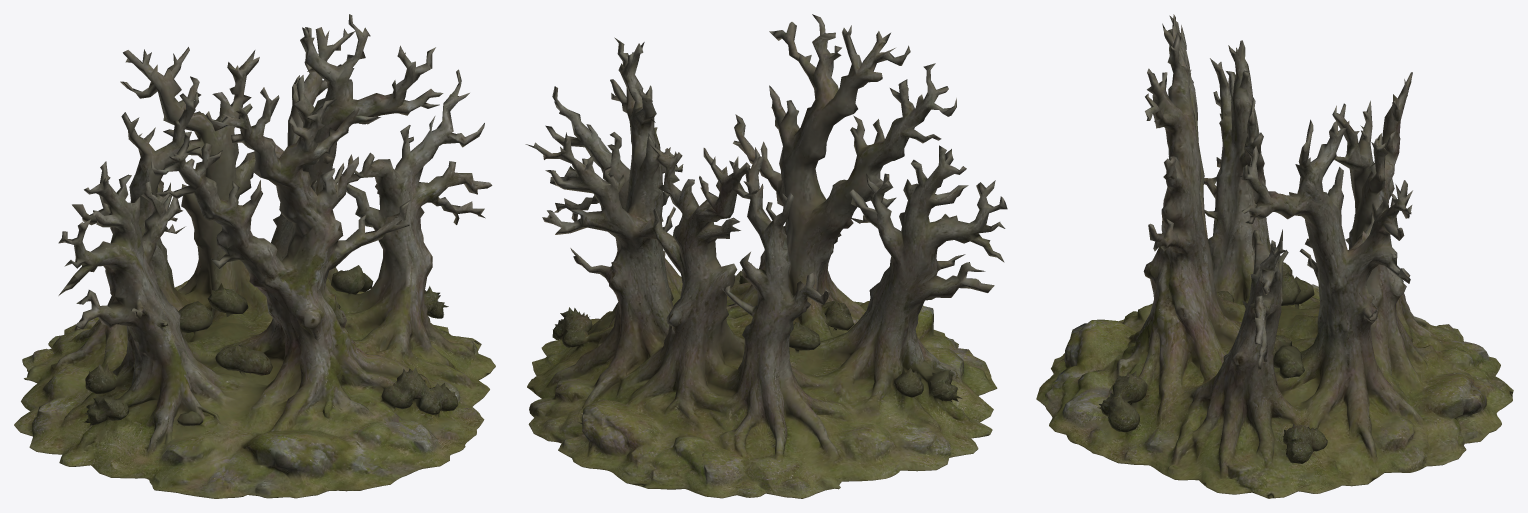
File: bare_copse_tripo.glb
3 views of the same model, side by side, from view 1: azimuth 30°, elevation 25°; view 2: azimuth 150°, elevation 25°; view 3: azimuth 270°, elevation 25° (orthographic). The views are drawn at different scales.
Visible parts, largest first — view 1: tripo_node_a712bf1c-966b-40c1-8cd8-e46c44f1e139; view 2: tripo_node_a712bf1c-966b-40c1-8cd8-e46c44f1e139; view 3: tripo_node_a712bf1c-966b-40c1-8cd8-e46c44f1e139.
Part boxes in pixels (box(x1,y1,x2,y2)): tripo_node_a712bf1c-966b-40c1-8cd8-e46c44f1e139: box(14, 14, 495, 498); tripo_node_a712bf1c-966b-40c1-8cd8-e46c44f1e139: box(525, 14, 1007, 498); tripo_node_a712bf1c-966b-40c1-8cd8-e46c44f1e139: box(1036, 14, 1513, 498).
Bounding box in the file's own units: 1 × 0.7575 × 0.9536.
Materials: 1 (1 with a texture image).
